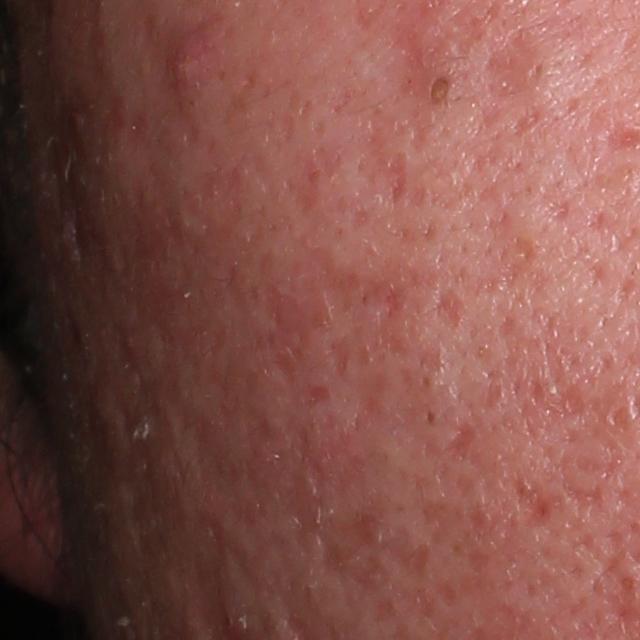atrophic_scar: (456, 236, 538, 303), (427, 412, 476, 468), (515, 492, 558, 534), (432, 284, 467, 331)
comedo: (425, 73, 453, 109), (421, 408, 439, 427)
papule: (161, 25, 223, 105)
